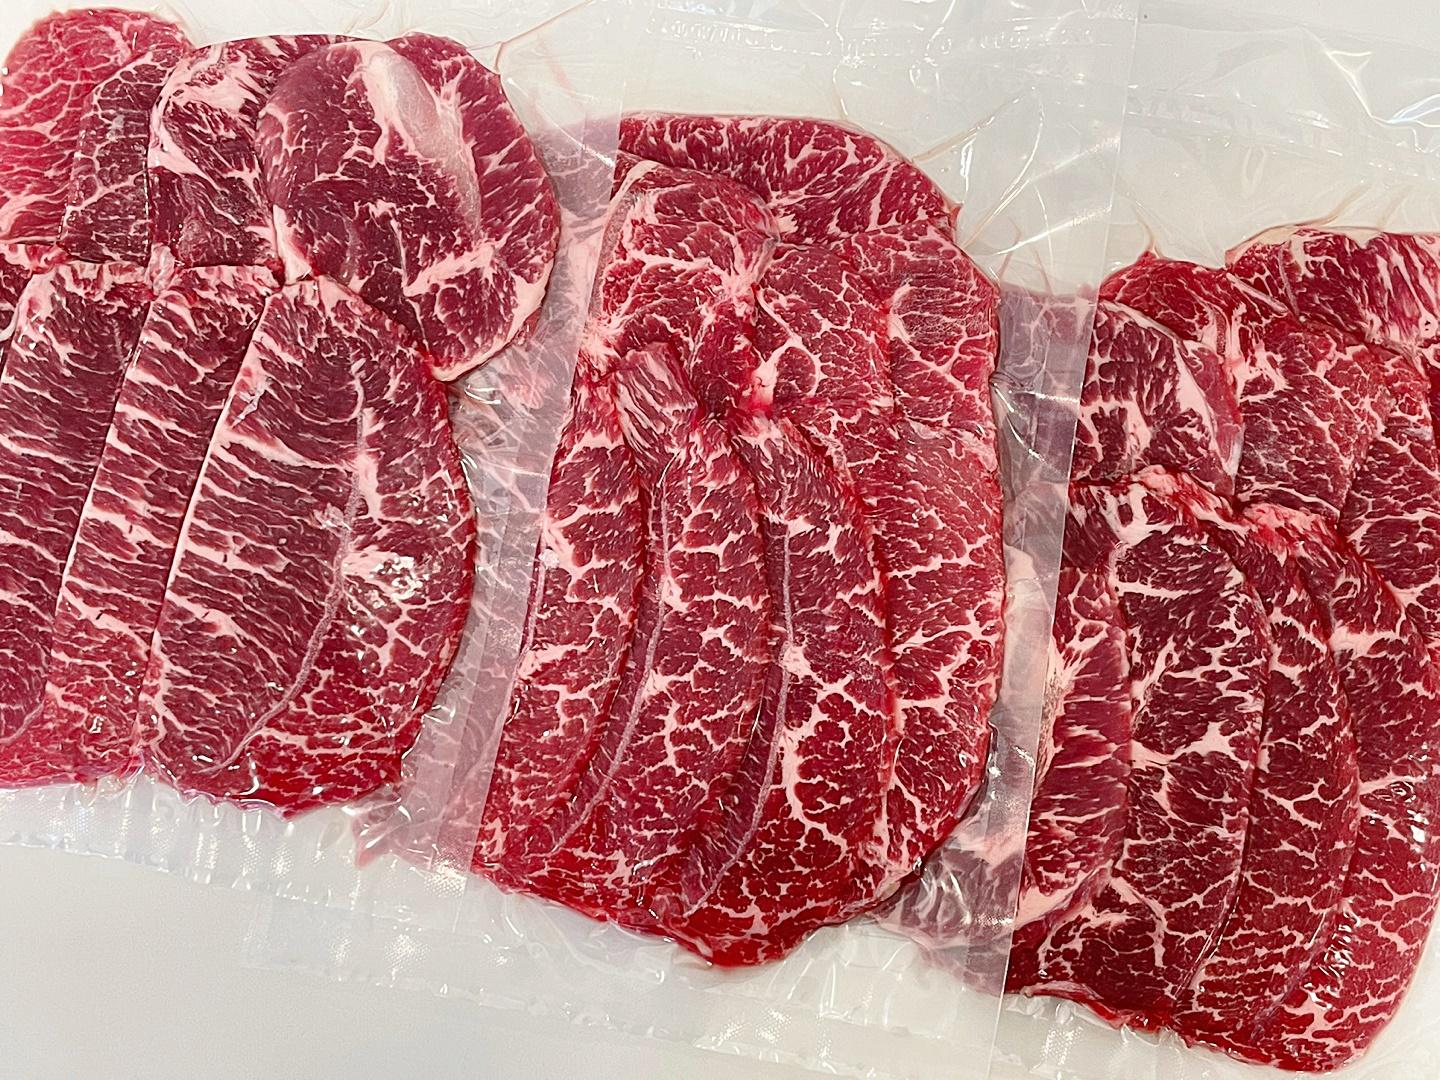beef: (66, 175, 1069, 1080), (1020, 349, 1440, 1080), (1070, 540, 1440, 1080)
